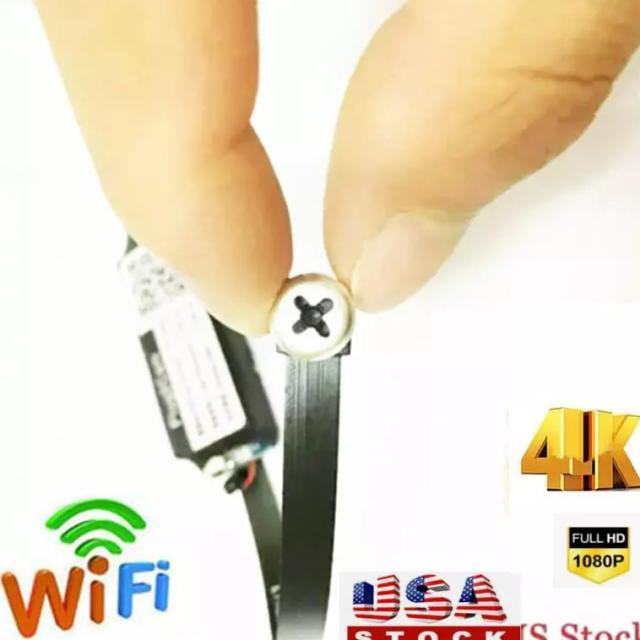hidden camera: (301, 306, 324, 329)
